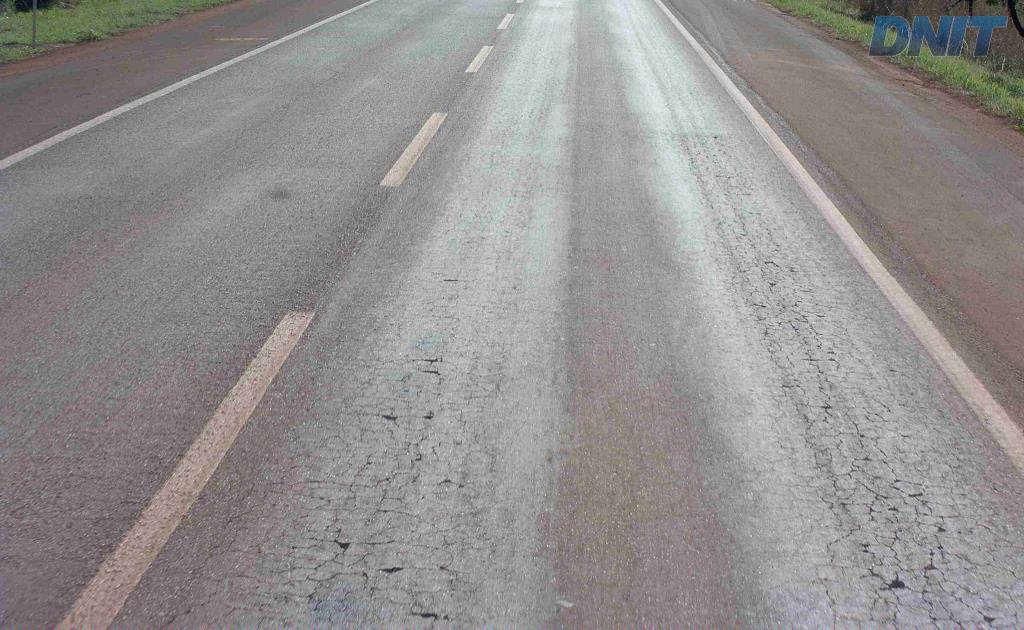crack: (983, 540, 1023, 582)
